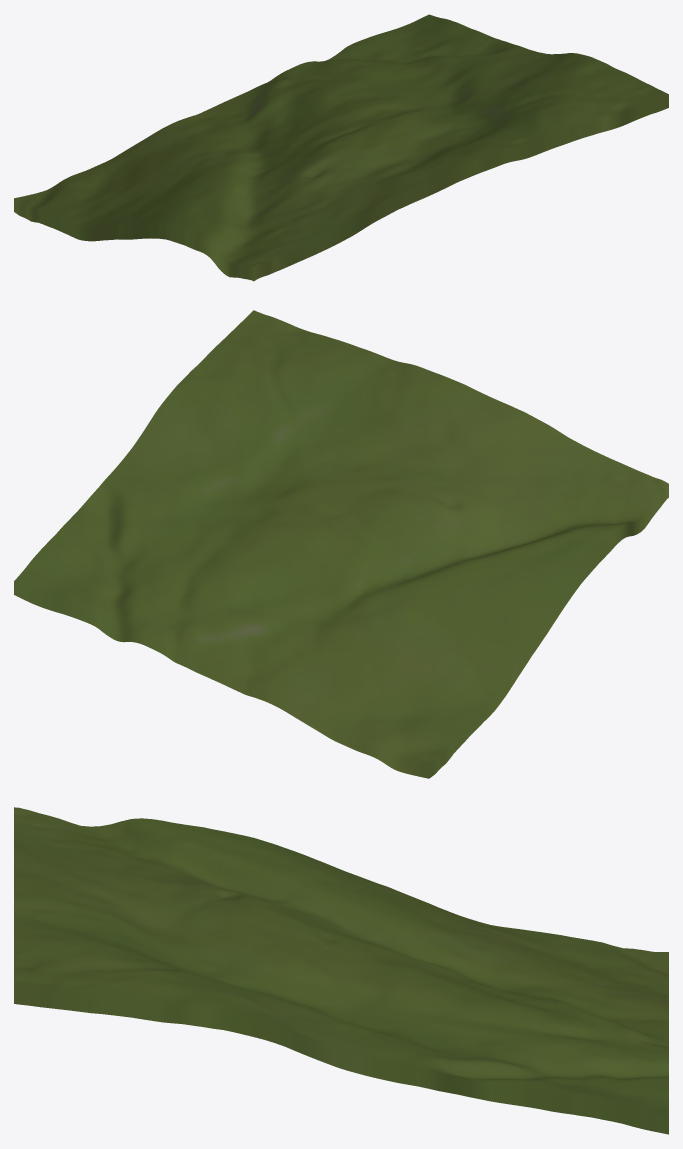
File: terrain_5_-5.glb
3 renders of one model, top to bottom at view 1: azimuth 30°, elevation 25°; view 2: azimuth 150°, elevation 25°; view 3: azimuth 270°, elevation 25°, orthographic. The views are drawn at different scales.
Visible parts, largest first — view 1: terrain_5_-5; view 2: terrain_5_-5; view 3: terrain_5_-5.
Boxes of the visible parts, <box> form: terrain_5_-5: <box>14,14,668,281</box>; terrain_5_-5: <box>14,310,668,778</box>; terrain_5_-5: <box>14,807,668,1134</box>.
Bounding box in the file's own units: 256 × 113 × 256.
